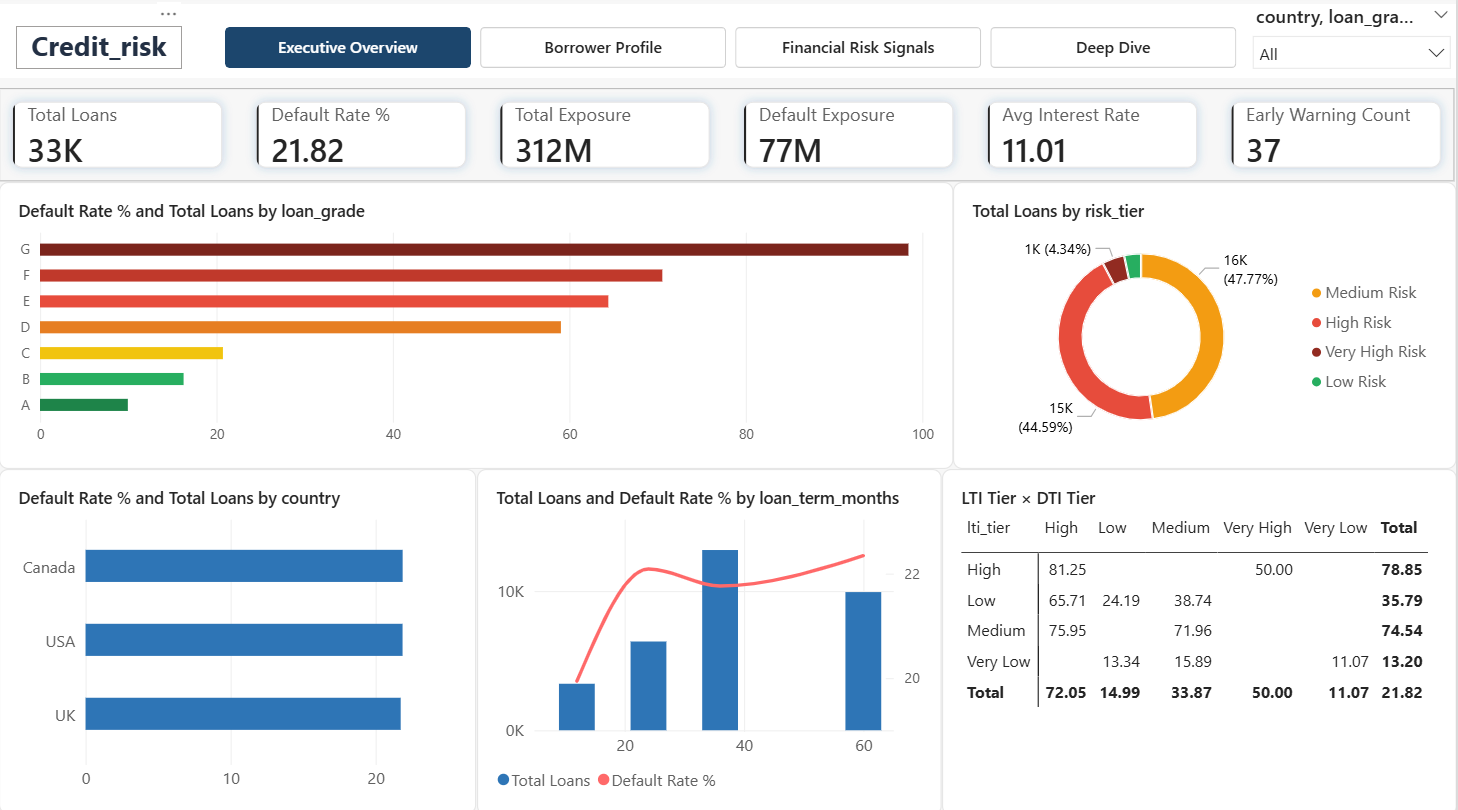

What the dashboard file says about the page in this screenshot:
{"tool":"powerbi","page":{"name":"Executive Overview","canvas":[1280,720],"ordinal":0},"visuals":[{"type":"shape","box":[0,8.1,1280,65],"z":0},{"type":"textbox","box":[15,27.3,145.6,37.9],"z":1000},{"type":"pageNavigator","box":[198.4,28.1,889.5,36.9],"z":2000},{"type":"cardVisual","fields":{"Data":["credit_risk_cleaned.Total Loans","credit_risk_cleaned.Default Rate %","credit_risk_cleaned.Total Exposure","credit_risk_cleaned.Default Exposure","credit_risk_cleaned.Avg Interest Rate","credit_risk_cleaned.Early Warning Count"]},"box":[0,81.6,1280,82.6],"z":3000},{"type":"donutChart","fields":{"Category":["credit_risk_cleaned.risk_tier"],"Y":["credit_risk_cleaned.Total Loans"]},"box":[837.6,164.2,442.4,251.8],"z":4000},{"type":"clusteredBarChart","fields":{"Category":["credit_risk_cleaned.country"],"Y":["credit_risk_cleaned.Default Rate %"]},"box":[0,416.1,419.4,303.3],"z":5000},{"type":"lineClusteredColumnComboChart","fields":{"Category":["credit_risk_cleaned.loan_term_months"],"Y":["credit_risk_cleaned.Total Loans"],"Y2":["credit_risk_cleaned.Default Rate %"]},"box":[419.4,416.1,408.4,304.4],"z":6000},{"type":"clusteredBarChart","fields":{"Category":["credit_risk_cleaned.loan_grade"],"Y":["credit_risk_cleaned.Default Rate %"]},"box":[0,164.2,837.6,251.8],"z":7000},{"type":"slicer","fields":{"Values":["credit_risk_cleaned.country","credit_risk_cleaned.loan_grade","credit_risk_cleaned.risk_tier"]},"box":[1095.8,7.9,184.4,65],"z":8000},{"type":"pivotTable","title":"LTI Tier × DTI Tier","fields":{"Columns":["credit_risk_cleaned.dti_tier"],"Rows":["credit_risk_cleaned.lti_tier"],"Values":["credit_risk_cleaned.Default Rate %"]},"box":[827.8,416.1,452.2,304.4],"z":9000}]}

Visuals, with their boxes on the page's 1280x720 design canvas (x1, y1, x2, y2). These are canvas units, not pixel positions in the 1458x810 screenshot, which may show the page scaled, cropped or inside an application window:
shape: x1=0 y1=8 x2=1280 y2=73
textbox: x1=15 y1=27 x2=161 y2=65
pageNavigator: x1=198 y1=28 x2=1088 y2=65
cardVisual - credit_risk_cleaned.Total Loans x credit_risk_cleaned.Default Rate %: x1=0 y1=82 x2=1280 y2=164
donutChart - credit_risk_cleaned.risk_tier x credit_risk_cleaned.Total Loans: x1=838 y1=164 x2=1280 y2=416
clusteredBarChart - credit_risk_cleaned.country x credit_risk_cleaned.Default Rate %: x1=0 y1=416 x2=419 y2=719
lineClusteredColumnComboChart - credit_risk_cleaned.loan_term_months x credit_risk_cleaned.Total Loans: x1=419 y1=416 x2=828 y2=720
clusteredBarChart - credit_risk_cleaned.loan_grade x credit_risk_cleaned.Default Rate %: x1=0 y1=164 x2=838 y2=416
slicer - credit_risk_cleaned.country x credit_risk_cleaned.loan_grade: x1=1096 y1=8 x2=1280 y2=73
"LTI Tier × DTI Tier" pivotTable: x1=828 y1=416 x2=1280 y2=720
